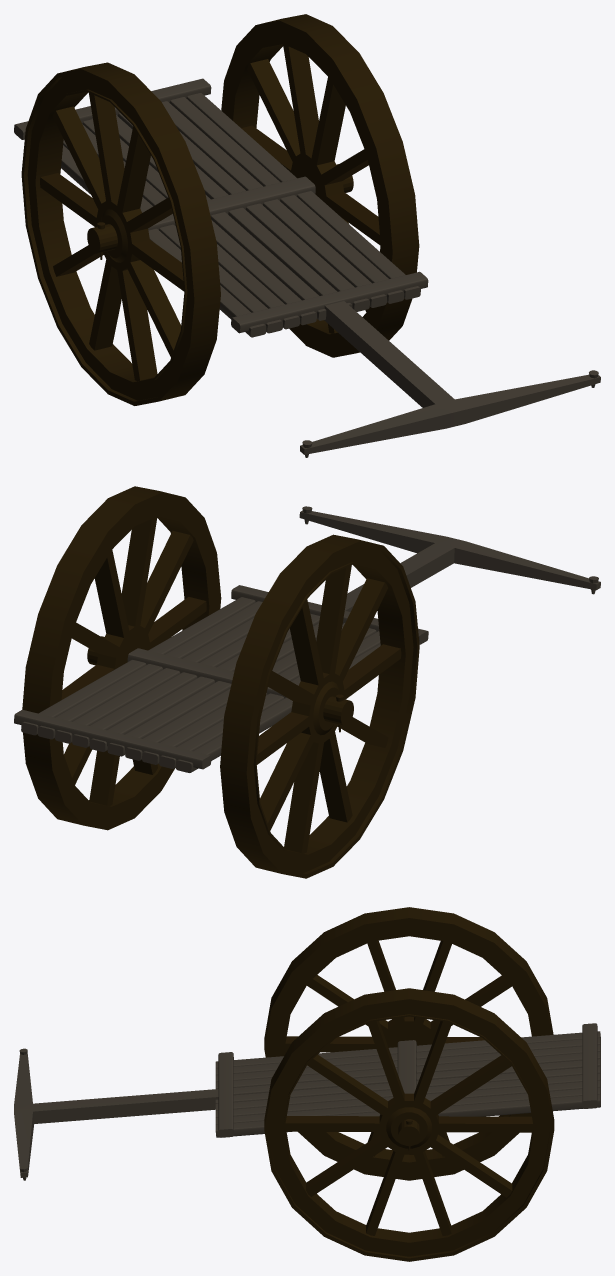
Rendered from cratB_textured.fbx.
3 renders of one model, top to bottom at view 1: azimuth 30°, elevation 25°; view 2: azimuth 150°, elevation 25°; view 3: azimuth 270°, elevation 25°, orthographic. The views are drawn at different scales.
Visible parts, largest first — view 1: pCylinder19, pCube45, pCylinder18, pCylinder22; view 2: pCylinder19, pCylinder18, pCube45, pCylinder22; view 3: pCylinder18, pCylinder19, pCube45, pCylinder22.
Part boxes in pixels (x1=…): pCylinder19: x1=21, y1=62, x2=220, y2=405; pCube45: x1=14, y1=78, x2=428, y2=337; pCylinder18: x1=221, y1=14, x2=419, y2=357; pCylinder22: x1=300, y1=301, x2=600, y2=457; pCylinder19: x1=220, y1=534, x2=419, y2=878; pCylinder18: x1=22, y1=486, x2=221, y2=830; pCube45: x1=14, y1=585, x2=428, y2=772; pCylinder22: x1=299, y1=506, x2=600, y2=611; pCylinder18: x1=264, y1=988, x2=554, y2=1261; pCylinder19: x1=264, y1=907, x2=553, y2=1180; pCube45: x1=215, y1=1023, x2=600, y2=1137; pCylinder22: x1=14, y1=1048, x2=218, y2=1180.
Bounding box in the file's own units: 15.2 × 15.36 × 31.09.
